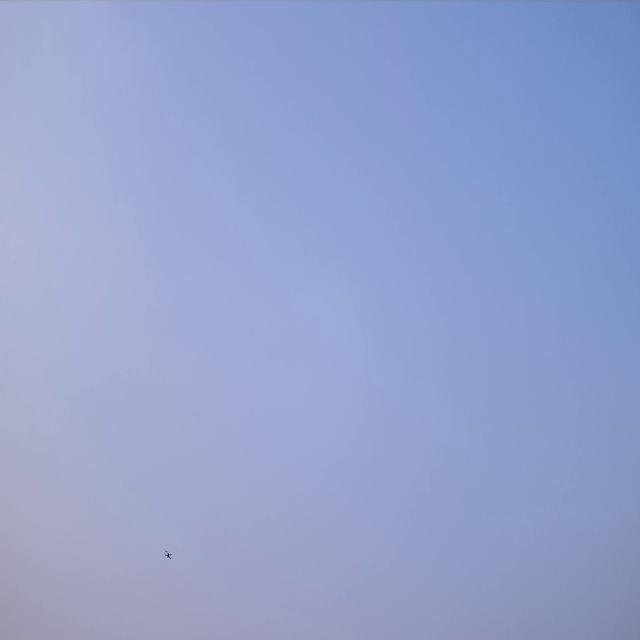UAV: (164, 548, 173, 561)
